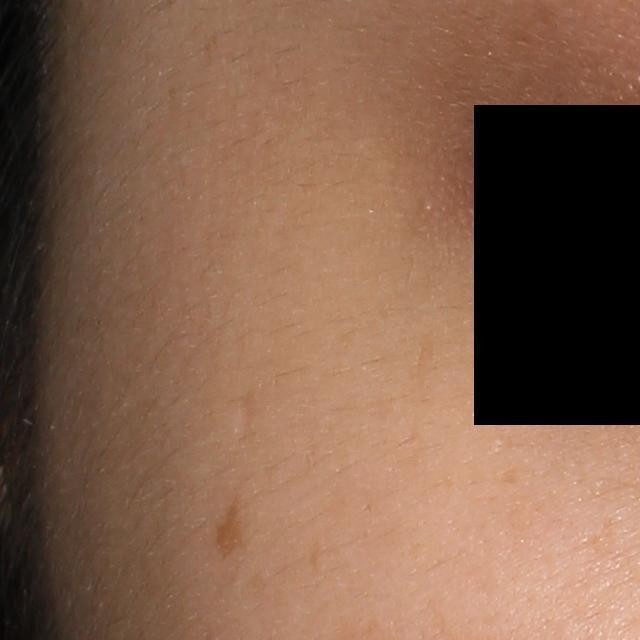atrophic_scar: (231, 388, 260, 454)
melasma: (215, 501, 242, 557)
